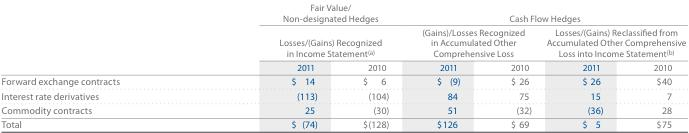table: (0, 1, 685, 129)
table column: (0, 1, 198, 129), (198, 1, 339, 129), (538, 1, 627, 129), (404, 1, 484, 129), (339, 1, 404, 129), (627, 1, 685, 129), (484, 1, 538, 129)
table column header: (0, 1, 685, 73)
table row: (0, 24, 685, 59), (0, 1, 685, 24), (0, 87, 685, 102), (0, 59, 685, 73), (0, 73, 685, 87), (0, 102, 685, 116), (0, 116, 685, 129)
table spanning cell: (198, 1, 404, 59), (404, 1, 685, 24), (538, 24, 685, 59), (404, 24, 538, 59)
